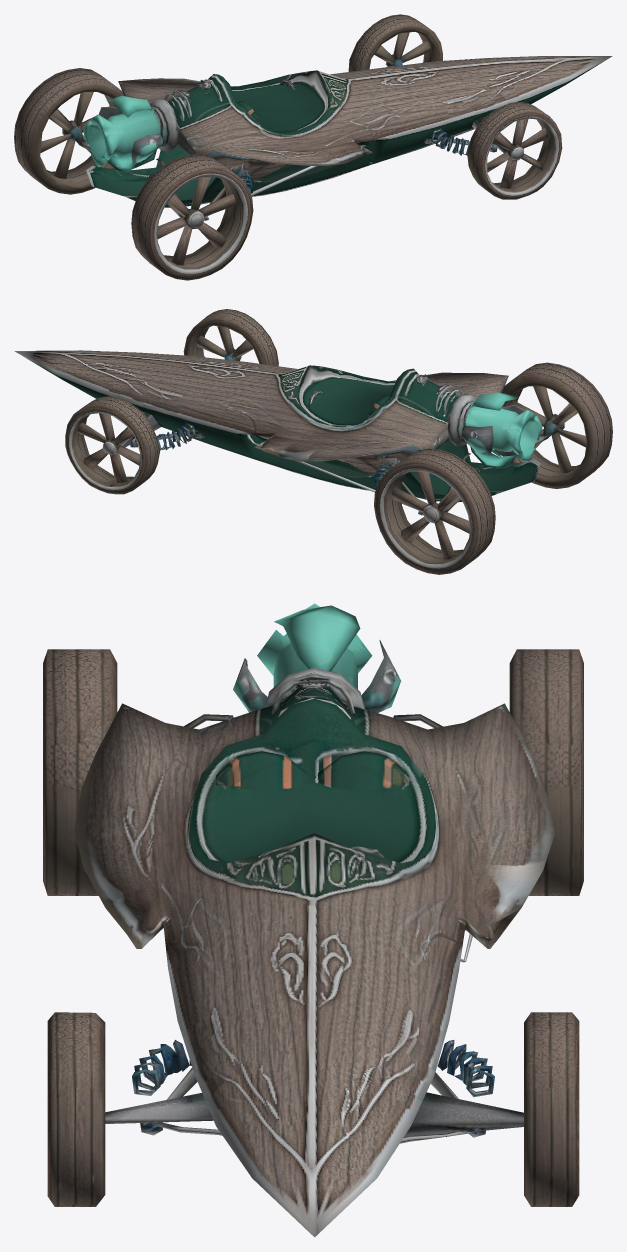
File: tripo_convert_d4275677-62be-4d89-b960-4c7360fc1366.fbx
3 views of the same model, one above another, from view 1: azimuth 30°, elevation 25°; view 2: azimuth 150°, elevation 25°; view 3: azimuth 270°, elevation 25° (orthographic). The views are drawn at different scales.
Parts seen in each view (by area): view 1: tripo_node_d4275677; view 2: tripo_node_d4275677; view 3: tripo_node_d4275677.
Boxes of the visible parts, x1=… form: tripo_node_d4275677: x1=14, y1=14, x2=612, y2=280; tripo_node_d4275677: x1=14, y1=309, x2=612, y2=574; tripo_node_d4275677: x1=43, y1=603, x2=583, y2=1237.
Bounding box in the file's own units: 0.998 × 0.2402 × 0.4395.
1 material, 1 textured.
